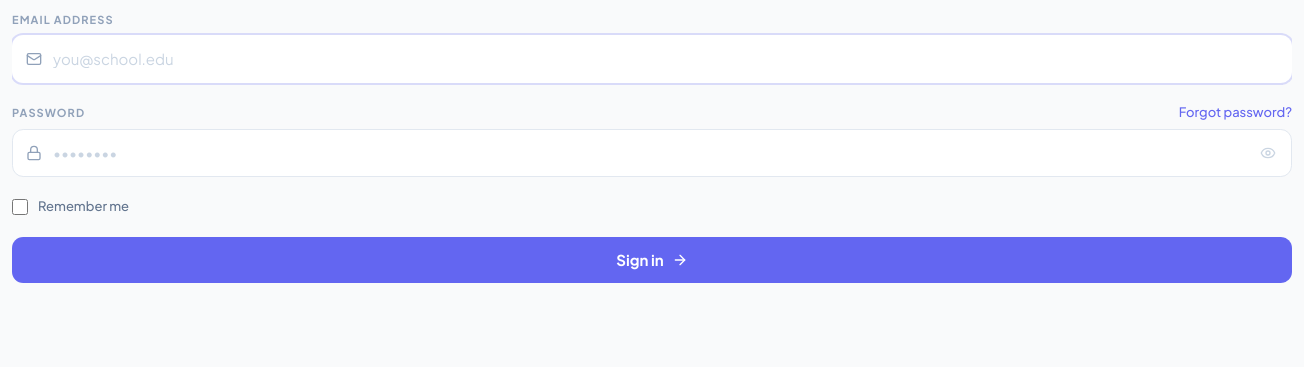
Test case: SignInForm › shows a validation error when password is empty
The image size is (1304, 367).
Type "admin@school.edu" into the field labelled "Email address" at (652, 59), box [12,34,1292,83]
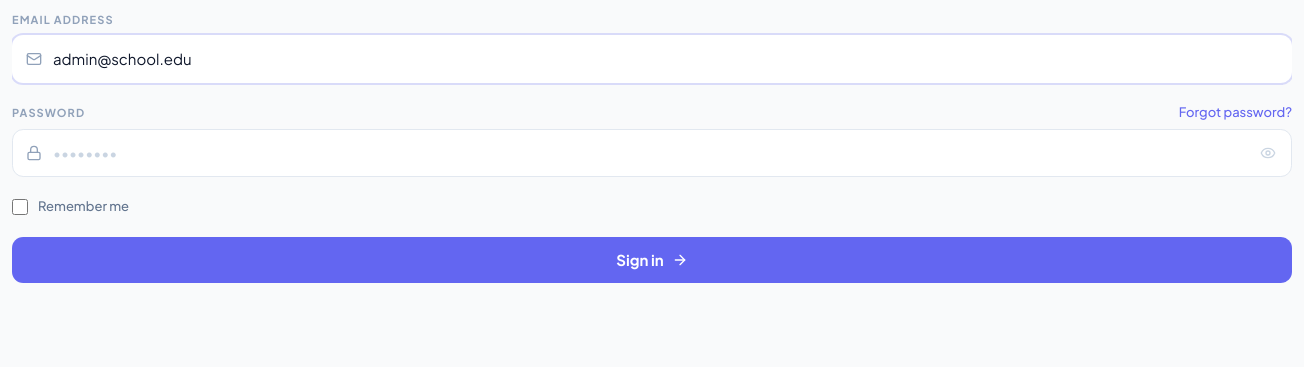
Click the button "Sign in" at (652, 260), box [12,236,1292,283]
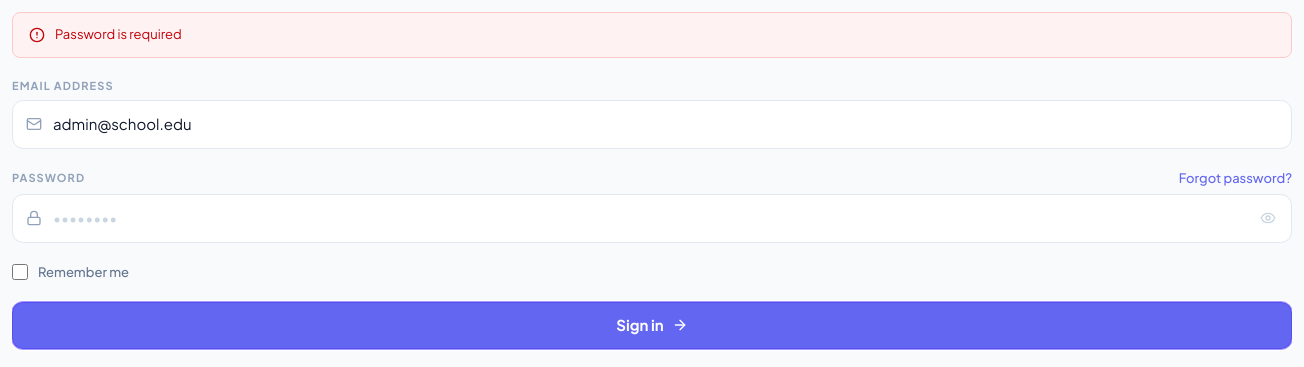
Now the message reads "Password is required", box [55,26,182,42]
